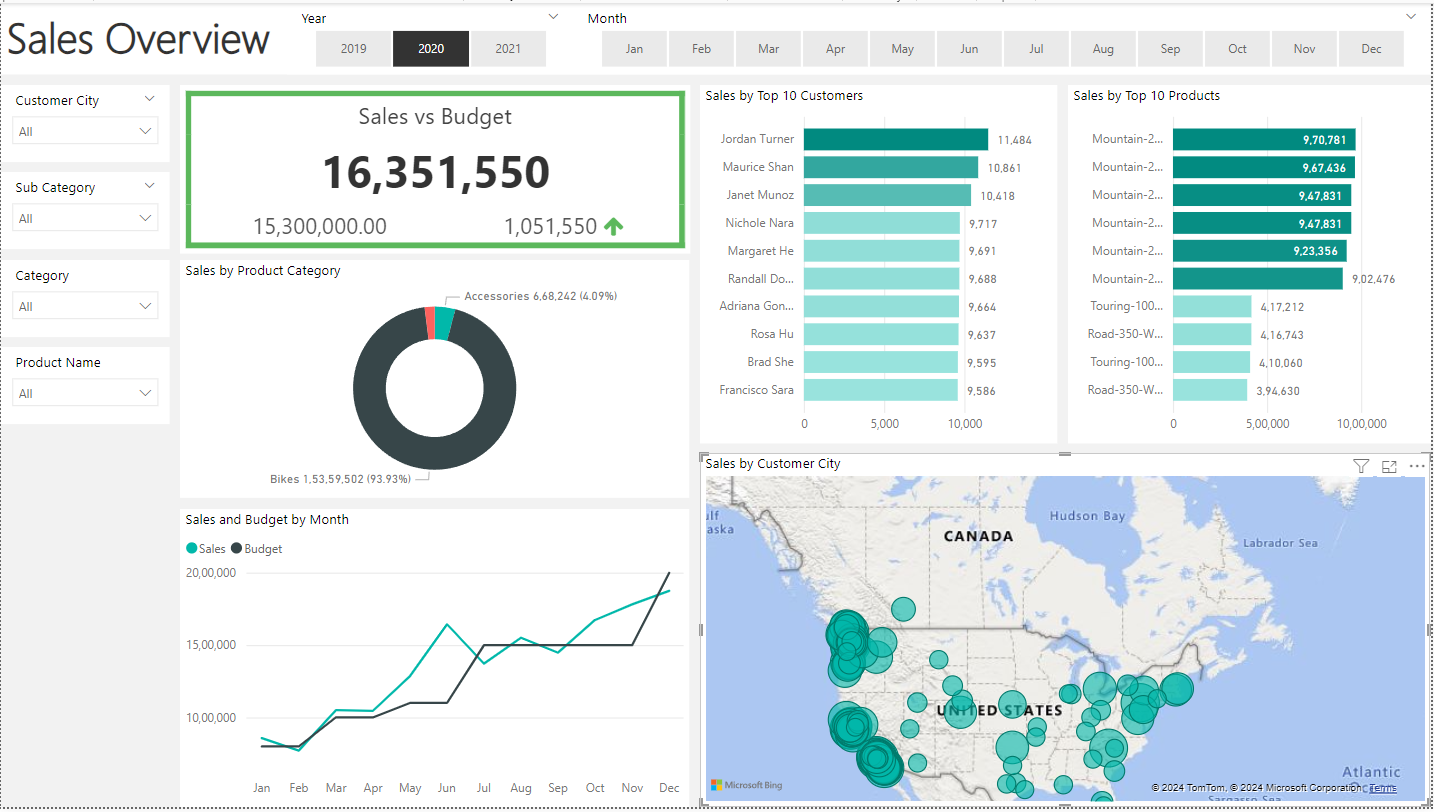

The page's visual inventory and layout, read from the dashboard file:
{"tool":"powerbi","page":{"name":"Sales Overview","canvas":[1280,720],"ordinal":0},"visuals":[{"type":"textbox","box":[0,0,1280,64],"z":0},{"type":"slicer","fields":{"Values":["DIM_Calendar.Year"]},"box":[256,0,256,64],"z":1000},{"type":"slicer","fields":{"Values":["DIM_Calendar.MonthShort"]},"box":[512,0,768,64],"z":2000},{"type":"slicer","fields":{"Values":["DIM_Customers.Customer City"]},"box":[0,73,150.5,69.3],"z":3000},{"type":"slicer","fields":{"Values":["DIM_Products.Product Category"]},"box":[0,229.9,150.5,69.3],"z":4000},{"type":"slicer","fields":{"Values":["DIM_Products.Product Name"]},"box":[0,308.4,150.5,69.3],"z":5000},{"type":"slicer","fields":{"Values":["DIM_Products.Sub Category"]},"box":[0,151.4,150.5,69.3],"z":6000},{"type":"barChart","title":"Sales by Top 10 Products","fields":{"Category":["DIM_Products.Product Name"],"Y":["Analysis Metrics.Sales"]},"box":[955.2,73,324.8,321.1],"z":7000},{"type":"lineChart","fields":{"Category":["DIM_Calendar.MonthShort"],"Y":["Analysis Metrics.Sales","Analysis Metrics.Budget"]},"box":[160.7,452.8,456.3,267.2],"z":8000},{"type":"barChart","title":"Sales by Top 10 Customers","fields":{"Category":["DIM_Customers.Full Name"],"Y":["Analysis Metrics.Sales"]},"box":[625.9,73,320.2,321.1],"z":9000},{"type":"donutChart","fields":{"Y":["Analysis Metrics.Sales"],"Series":["DIM_Products.Product Category"]},"box":[160.6,229.9,456.2,213.5],"z":10000},{"type":"map","fields":{"Category":["DIM_Customers.Customer City"],"Size":["Analysis Metrics.Sales"]},"box":[625.9,403.3,654.1,316.6],"z":12000},{"type":"BBED0A4D4D8D44CE93CF2DAFADEE466C","fields":{"actual":["Analysis Metrics.Sales"],"target2":["Analysis Metrics.Sales / Budget"],"target1":["Analysis Metrics.Budget"]},"box":[160.5,73.4,456.6,151.3],"z":13001}]}

Visuals, with their boxes on the page's 1280x720 design canvas (x1, y1, x2, y2). These are canvas units, not pixel positions in the 1434x812 screenshot, which may show the page scaled, cropped or inside an application window:
textbox: 0:0:1280:64
slicer - DIM_Calendar.Year: 256:0:512:64
slicer - DIM_Calendar.MonthShort: 512:0:1280:64
slicer - DIM_Customers.Customer City: 0:73:150:142
slicer - DIM_Products.Product Category: 0:230:150:299
slicer - DIM_Products.Product Name: 0:308:150:378
slicer - DIM_Products.Sub Category: 0:151:150:221
"Sales by Top 10 Products" barChart: 955:73:1280:394
lineChart - DIM_Calendar.MonthShort x Analysis Metrics.Sales: 161:453:617:720
"Sales by Top 10 Customers" barChart: 626:73:946:394
donutChart - Analysis Metrics.Sales x DIM_Products.Product Category: 161:230:617:443
map - DIM_Customers.Customer City x Analysis Metrics.Sales: 626:403:1280:720
BBED0A4D4D8D44CE93CF2DAFADEE466C - Analysis Metrics.Sales x Analysis Metrics.Sales / Budget: 160:73:617:225
